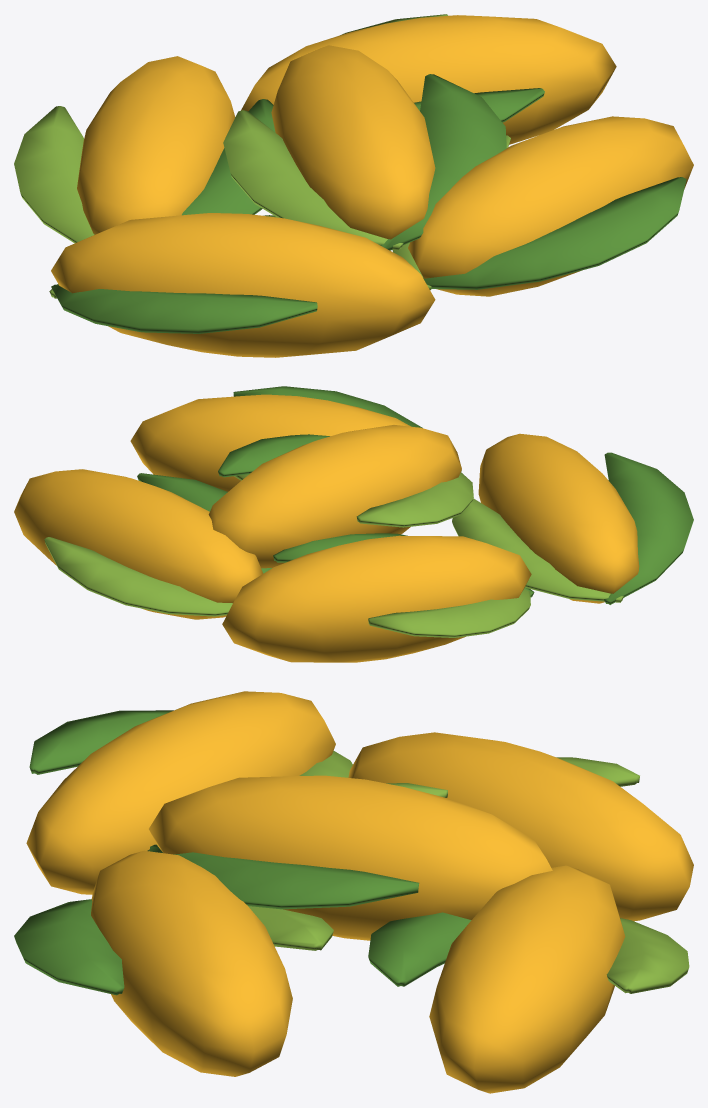
File: Corn_Pocket_Cluster.fbx
The picture shows the model from 3 angles, top to bottom: view 1: azimuth 30°, elevation 25°; view 2: azimuth 150°, elevation 25°; view 3: azimuth 270°, elevation 25°; orthographic projection. The views are drawn at different scales.
Visible parts, largest first — view 1: Body; view 2: Body; view 3: Body.
Boxes of the visible parts, x1,y1,x2,y2 form: Body: [14, 14, 693, 357]; Body: [14, 386, 693, 662]; Body: [14, 691, 693, 1093].
Bounding box in the file's own units: 0.4987 × 0.1185 × 0.4017.
